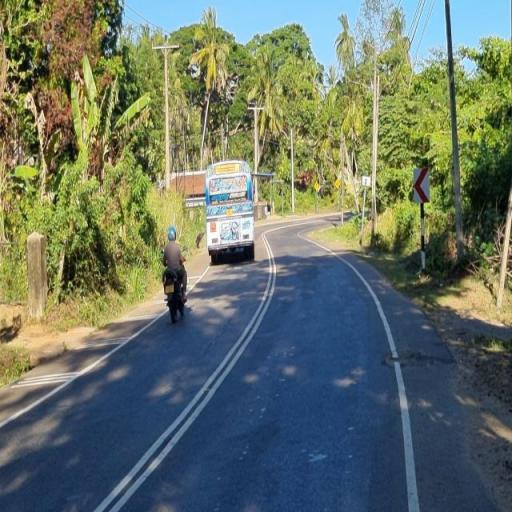double_white_line: (92, 228, 280, 512)
